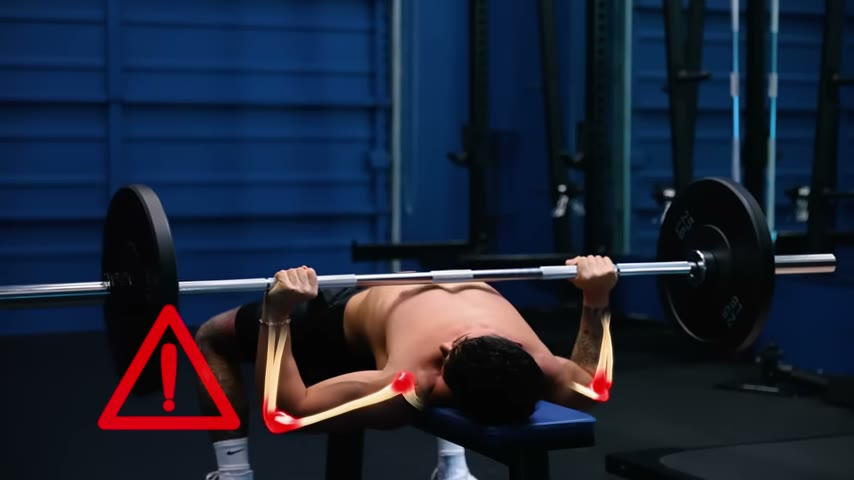barbell_plate_side: (639, 167, 787, 449)
